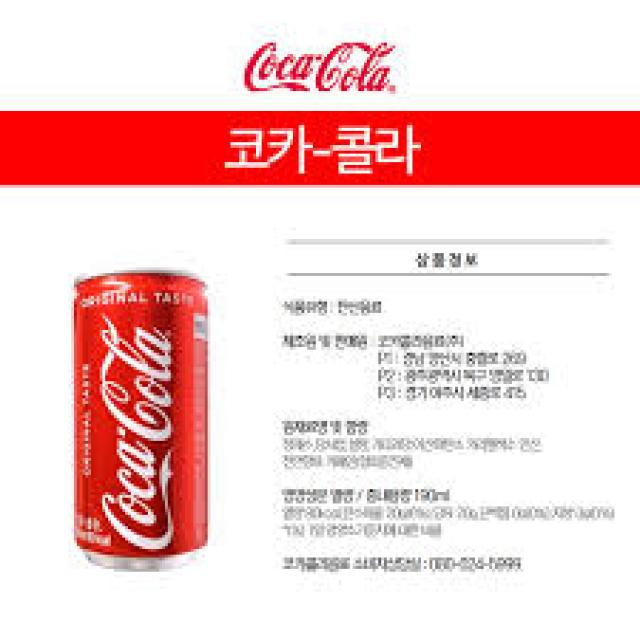Coca-Cola: (58, 261, 218, 584)
